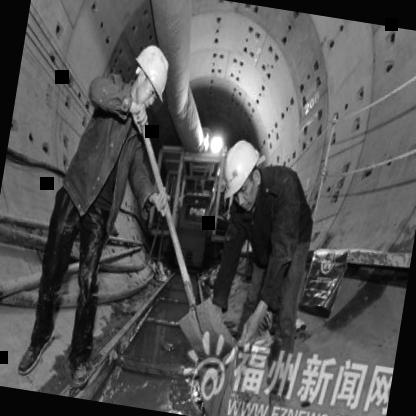helmet: (212, 131, 270, 216), (120, 37, 177, 118)
